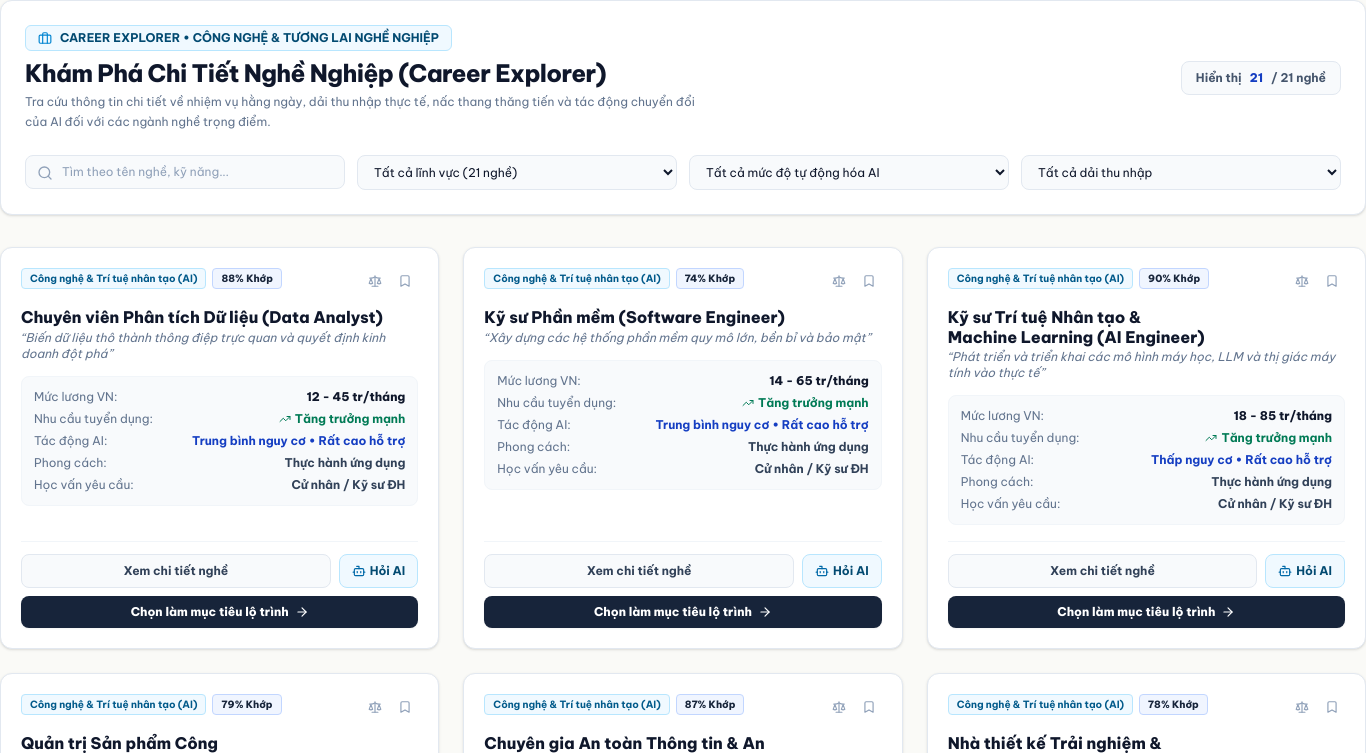
Test: MODULE PROMPT 05 — CAREER & MAJOR EXPLORER › A. CAREER EXPLORER › 2. Career Detail Modal: opens with role overview, daily work, skills, environment, growth, future outlook, WHY THIS FITS YOU, CHALLENGES
Click the button "Xem chi tiết nghề" below "88": click(176, 571) [21,554,331,588]
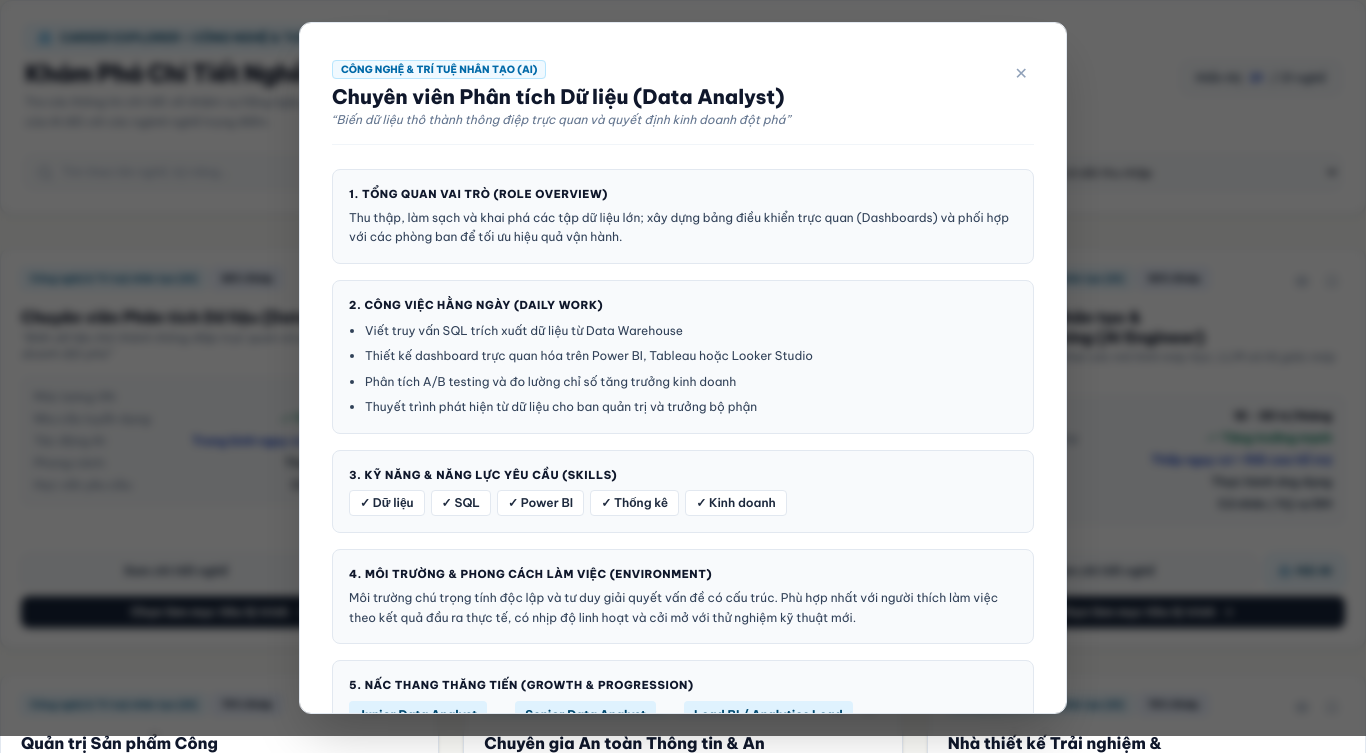
Result: the dialog is shown
Result: the text "1. Tổng quan vai trò (Role Overview)" is shown at [349,187,608,201]
Result: the text "2. Công việc hằng ngày (Daily Work)" is shown at [349,298,603,312]
Note: Close modal
Click the button named "Đóng": click(1021, 73) [1009,55,1034,91]
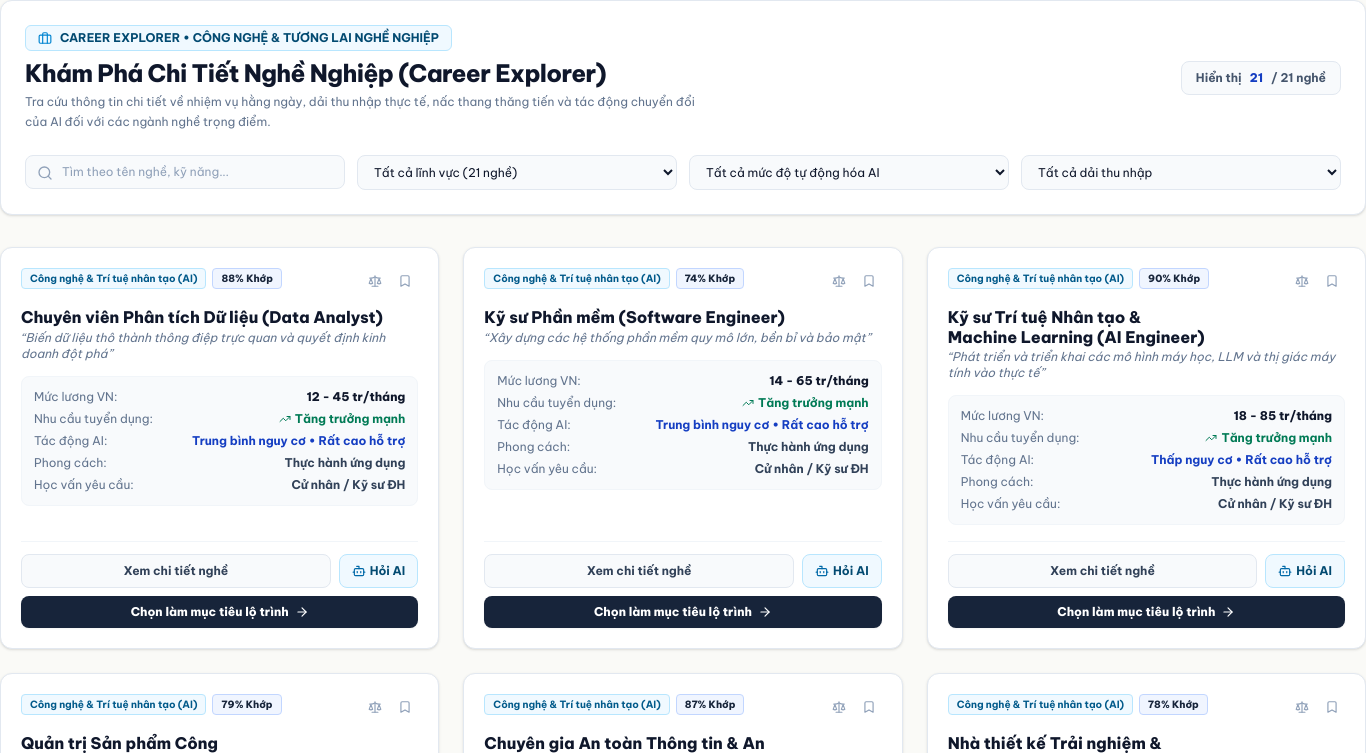
Result: the dialog is gone
